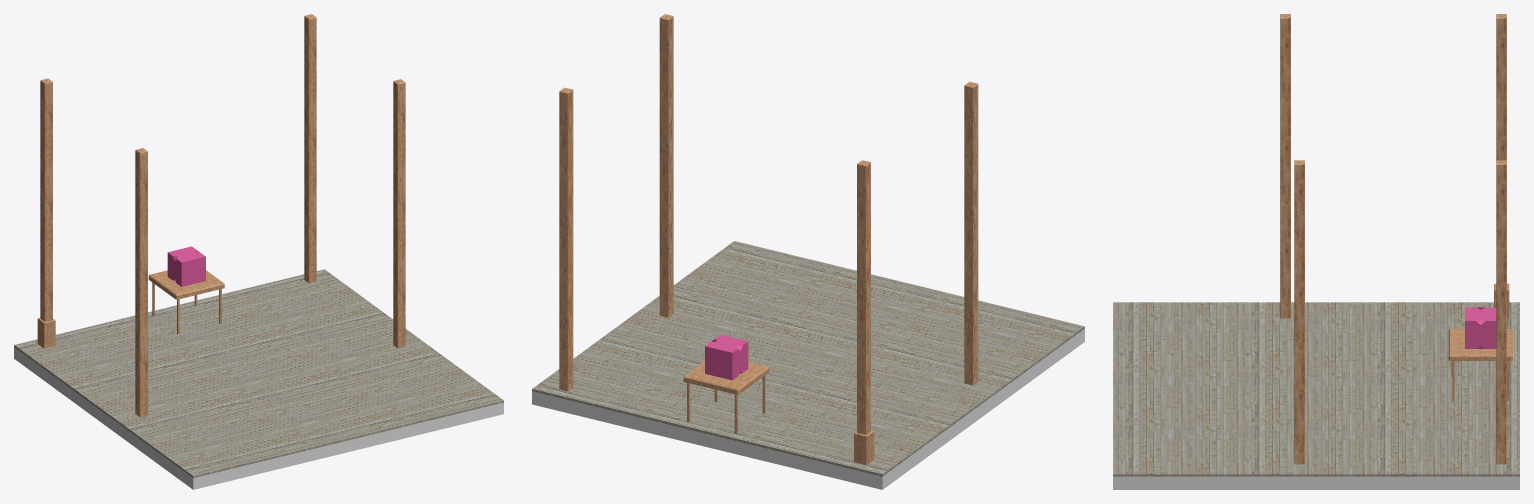
3 renders of one model, left to right at view 1: azimuth 30°, elevation 25°; view 2: azimuth 150°, elevation 25°; view 3: azimuth 270°, elevation 25°, orthographic. The views are drawn at different scales.
Visible parts, largest first — view 1: Floor, Pole.003, Pole.002, Pole, Pole.001, Cube, Tabletop; view 2: Floor, Pole, Pole.002, Pole.003, Pole.001, Cube, Tabletop, Pole.004; view 3: Floor, Pole.002, Pole.003, Pole, Pole.001, Cube, Tabletop.
Boxes of the visible parts, <box> form: Floor: <box>14,269,503,489</box>; Pole.003: <box>393,79,405,348</box>; Pole.002: <box>304,14,316,282</box>; Pole: <box>135,148,147,416</box>; Pole.001: <box>40,78,52,321</box>; Cube: <box>167,246,205,286</box>; Tabletop: <box>148,270,224,299</box>; Floor: <box>532,241,1084,489</box>; Pole: <box>964,81,978,385</box>; Pole.002: <box>559,87,573,391</box>; Pole.003: <box>659,14,673,317</box>; Pole.001: <box>857,160,870,434</box>; Cube: <box>705,334,748,380</box>; Tabletop: <box>683,361,769,394</box>; Pole.004: <box>854,430,874,465</box>; Floor: <box>1113,302,1519,489</box>; Pole.002: <box>1496,160,1506,464</box>; Pole.003: <box>1294,160,1304,464</box>; Pole: <box>1280,14,1290,318</box>; Pole.001: <box>1496,14,1506,160</box>; Cube: <box>1465,307,1496,348</box>; Tabletop: <box>1448,329,1512,360</box>.
Bounding box in the file's own units: 7.98 × 6.82 × 7.98.
Materials: 4 (2 with a texture image).
